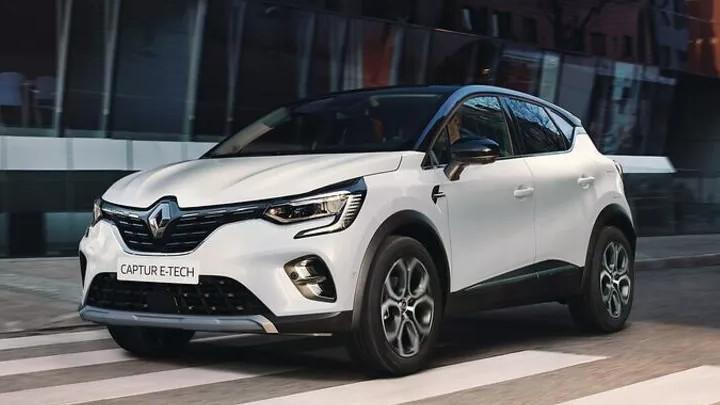Renault: (141, 199, 174, 245)
